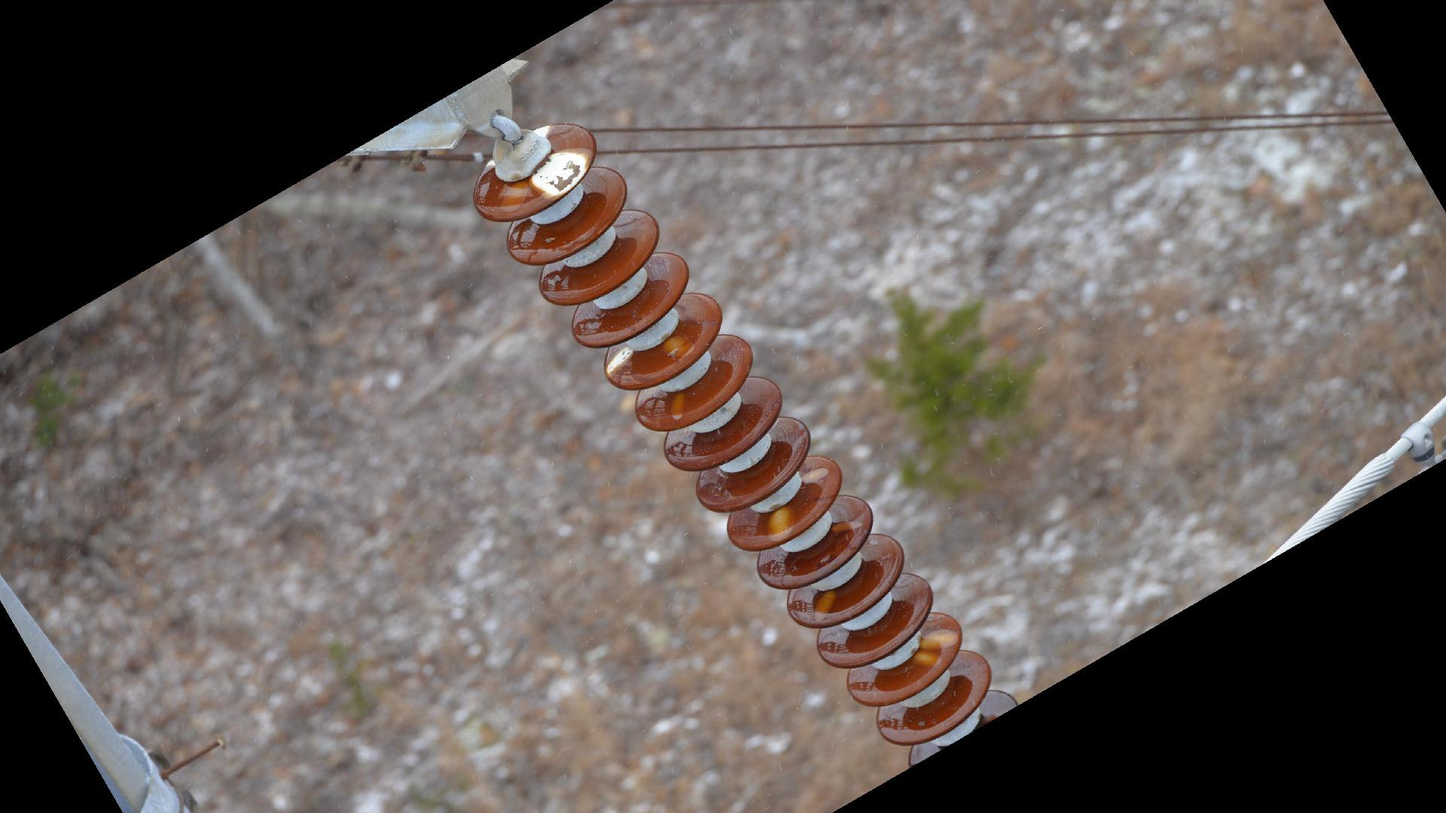insulator: (465, 117, 1021, 778)
insulator_flashover: (528, 148, 591, 198), (909, 626, 960, 672), (764, 503, 795, 544), (810, 586, 838, 626), (661, 330, 696, 360), (604, 346, 634, 376)
